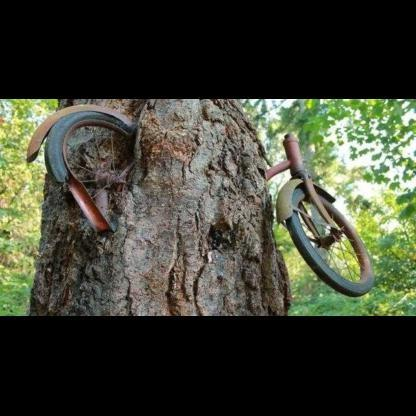Bicycle: (4, 93, 380, 304)
